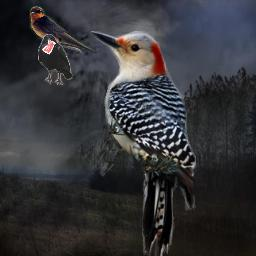Crow: (38, 34, 73, 85)
Swallow: (29, 5, 96, 53)
Woodpecker: (91, 31, 196, 256)
